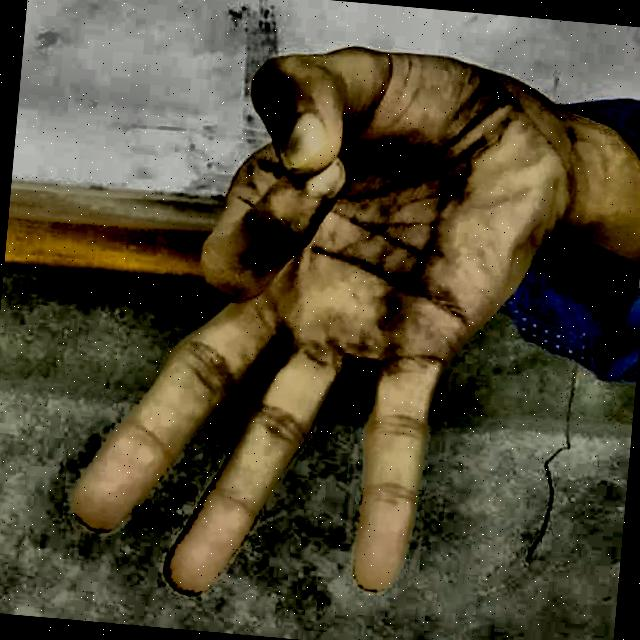Fa: (40, 8, 592, 640)
